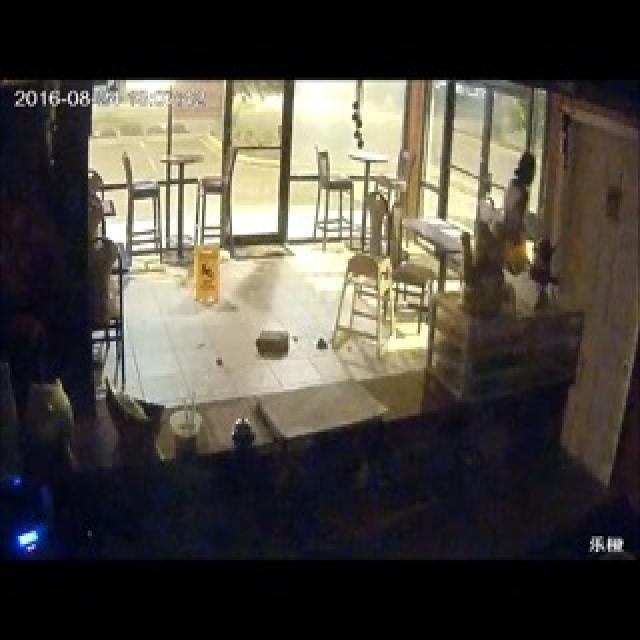thief: (503, 136, 557, 245)
